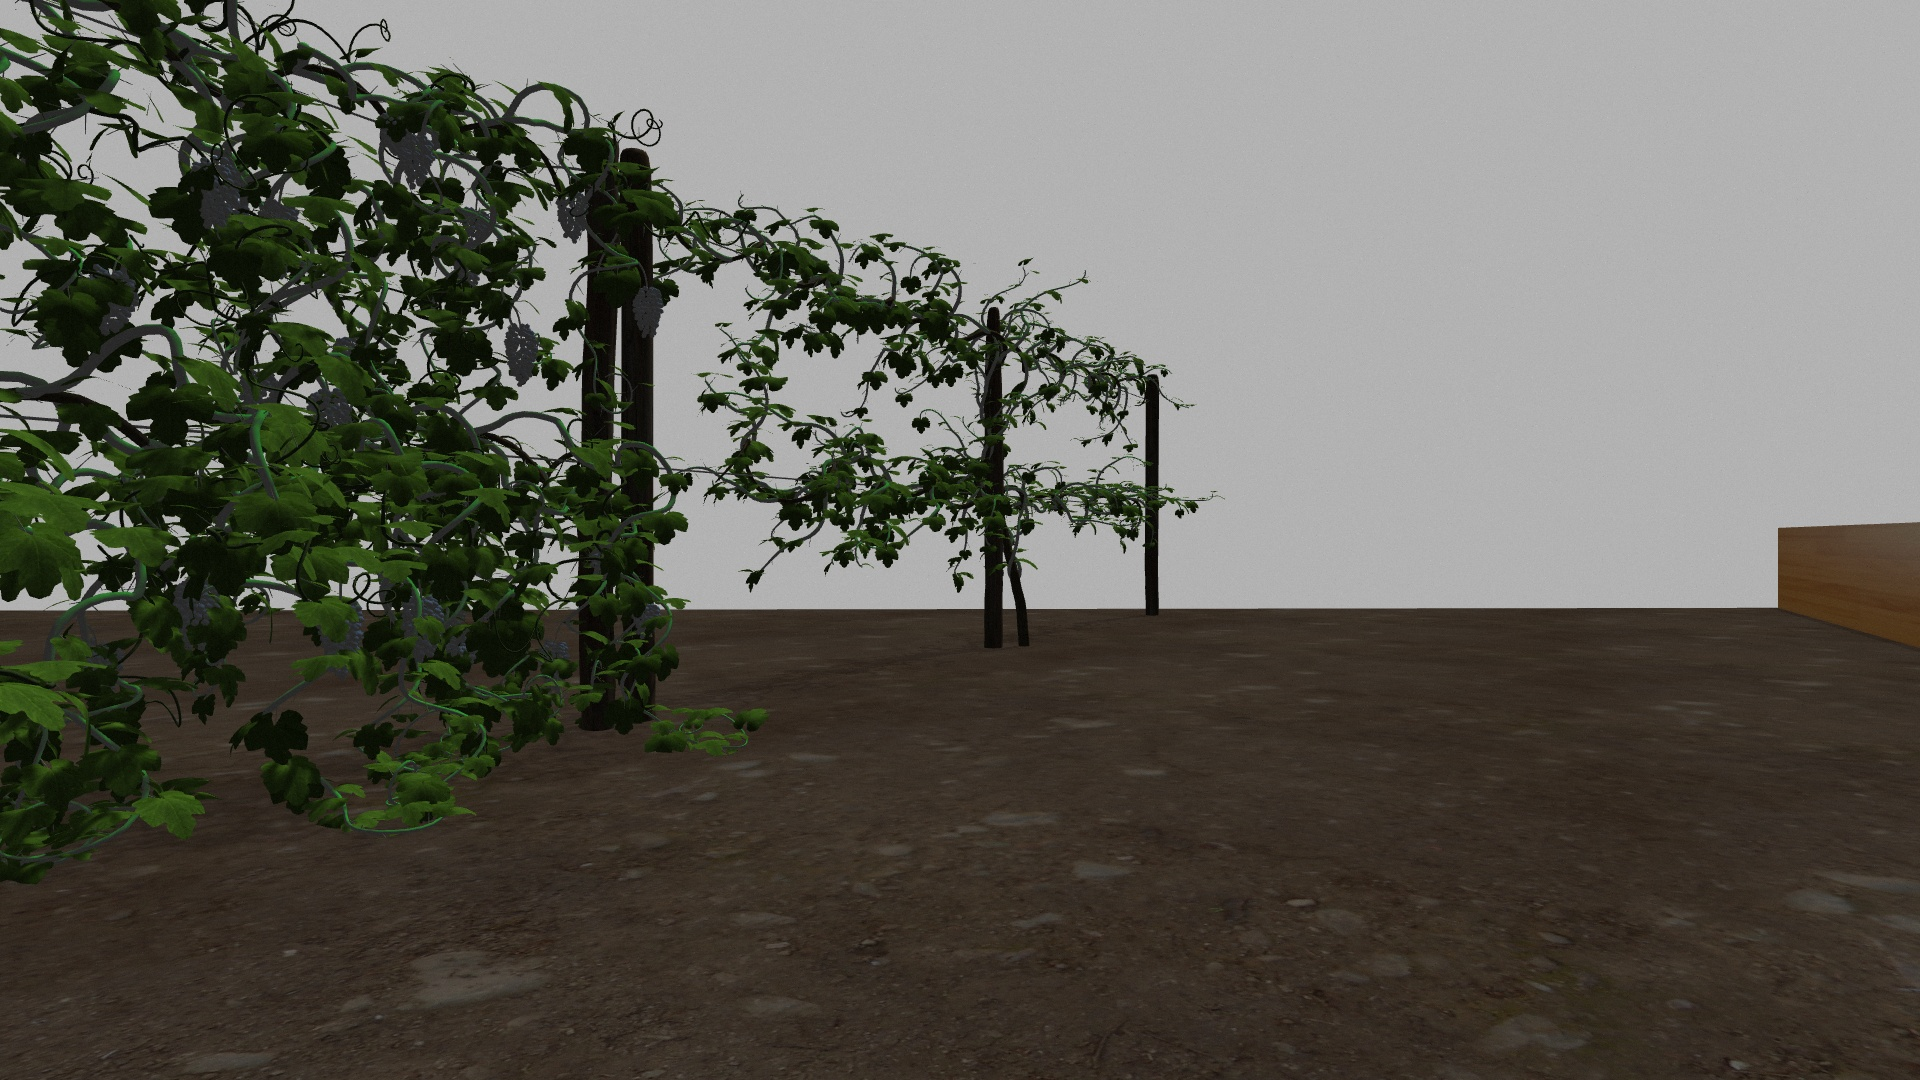grape: (195, 156, 240, 232), (320, 600, 364, 678), (171, 582, 218, 649), (402, 597, 444, 659), (504, 324, 542, 386), (397, 133, 436, 189), (554, 187, 592, 244), (306, 390, 355, 427), (632, 287, 666, 339)
